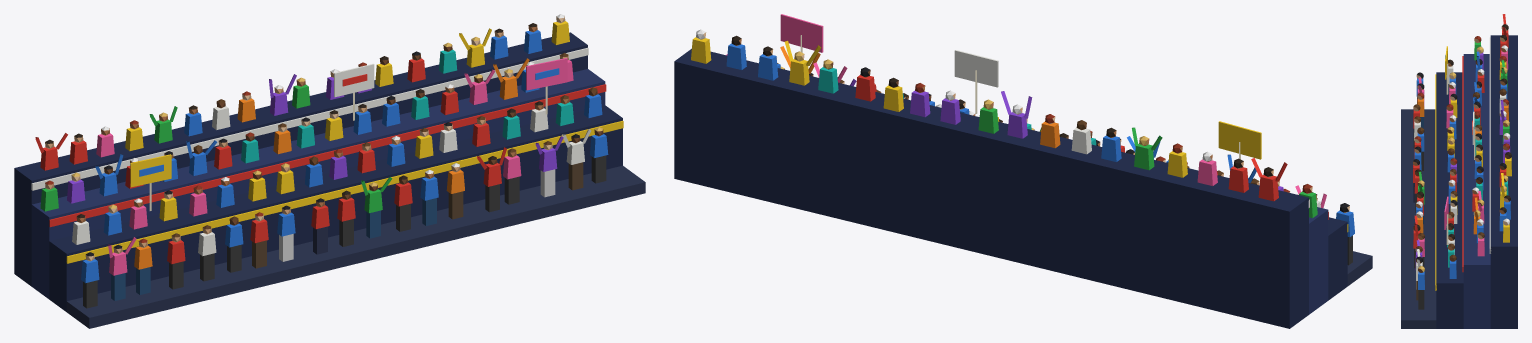
The model's file is crowd.glb.
3 views of the same model, side by side, from view 1: azimuth 30°, elevation 25°; view 2: azimuth 150°, elevation 25°; view 3: azimuth 270°, elevation 25° (orthographic). The views are drawn at different scales.
Visible parts, largest first — view 1: crowd; view 2: crowd; view 3: crowd.
Boxes of the visible parts, left/top/right/bottom form: crowd: left=14, top=14, right=645, bottom=328; crowd: left=674, top=14, right=1372, bottom=328; crowd: left=1401, top=14, right=1517, bottom=328.
Bounding box in the file's own units: 18.4 × 4.75 × 4.3.
Materials: 1 (1 with a texture image).
